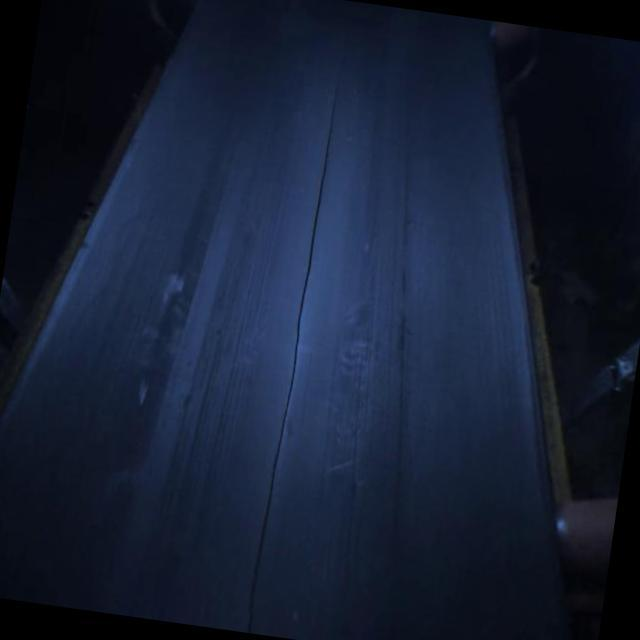Tear: (239, 51, 356, 636)
